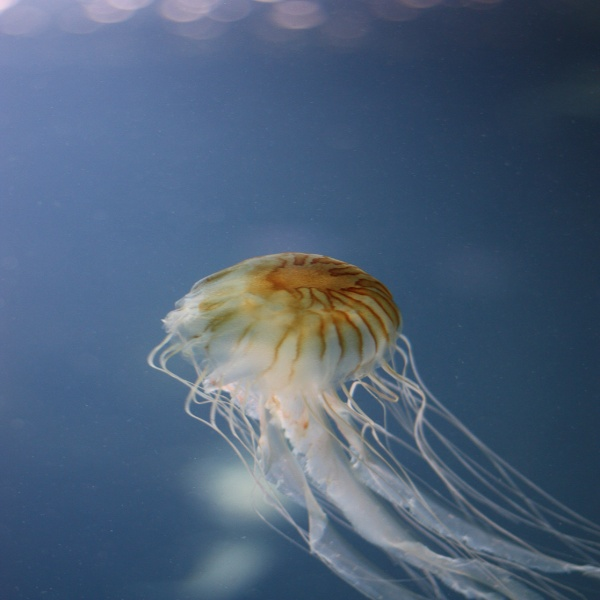Jellyfish: (143, 256, 579, 595)
